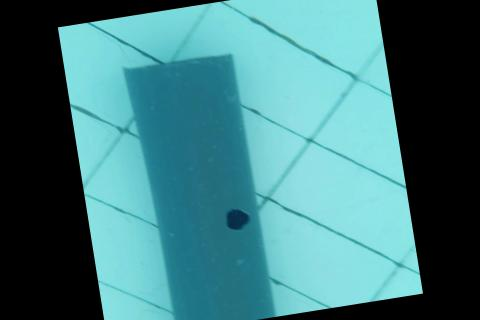kebocoran: (221, 205, 252, 232)
